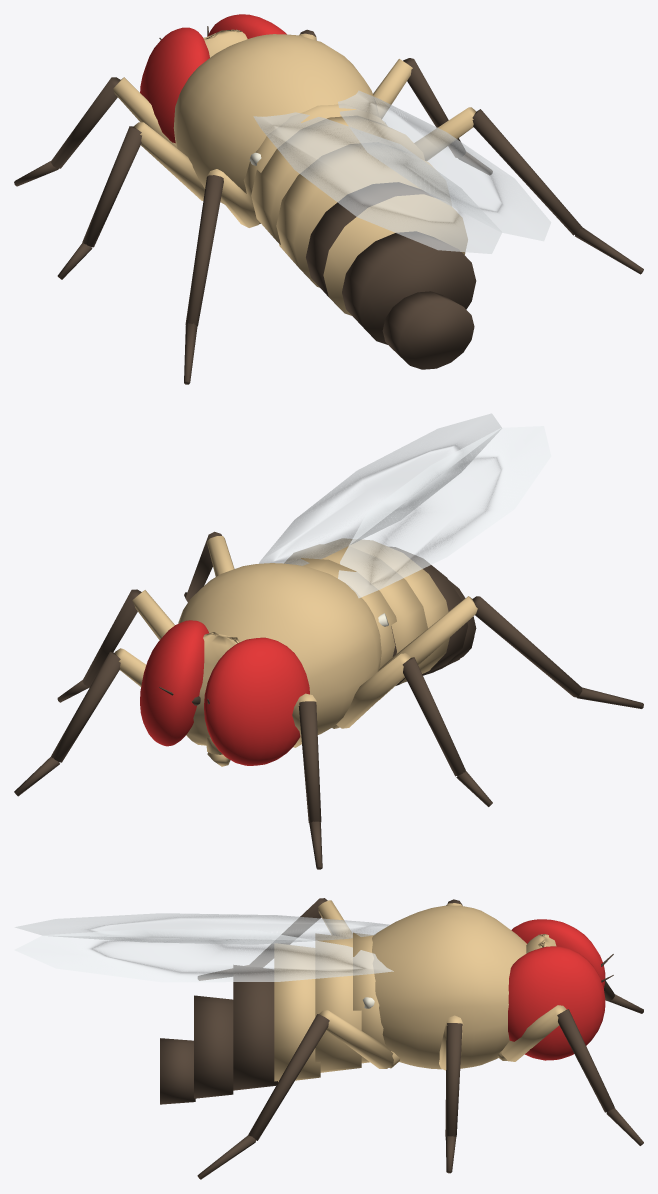
The model's file is drosophila_melanogaster.glb.
3 renders of one model, top to bottom at view 1: azimuth 30°, elevation 25°; view 2: azimuth 150°, elevation 25°; view 3: azimuth 270°, elevation 25°, orthographic. The views are drawn at different scales.
Parts seen in each view (by area): view 1: Thorax, Wing_L, Wing_R, Abdomen_T4, Abdomen_T5, Abdomen_T3, Abdomen_T2, Abdomen_T6, Eye_L, Leg_Hind_Tibia_R, Leg_Hind_Tibia_L, Abdomen_T1 (+12 smaller); view 2: Wing_L, Thorax, Wing_R, Eye_L, Eye_R, Abdomen_T2, Abdomen_T3, Abdomen_T1, Leg_Hind_Tibia_L, Leg_Front_Tibia_L, Leg_Mid_Tibia_L, Leg_Front_Tibia_R (+9 smaller); view 3: Thorax, Wing_R, Wing_L, Eye_R, Abdomen_T4, Abdomen_T3, Abdomen_T2, Abdomen_T5, Abdomen_T1, Abdomen_T6, Leg_Hind_Tibia_R, Eye_L (+7 smaller).
Boxes of the visible parts, <box> form: Thorax: <box>173,34,378,204</box>; Wing_L: <box>253,112,501,253</box>; Wing_R: <box>338,90,550,241</box>; Abdomen_T4: <box>306,182,467,315</box>; Abdomen_T5: <box>342,231,476,344</box>; Abdomen_T3: <box>276,143,434,287</box>; Abdomen_T2: <box>251,116,424,244</box>; Abdomen_T6: <box>382,291,474,369</box>; Eye_L: <box>140,27,209,143</box>; Leg_Hind_Tibia_R: <box>472,109,582,235</box>; Leg_Hind_Tibia_L: <box>185,175,223,325</box>; Abdomen_T1: <box>243,104,386,198</box>; Wing_L: <box>338,426,550,597</box>; Thorax: <box>178,563,381,734</box>; Wing_R: <box>259,413,501,565</box>; Eye_L: <box>204,637,309,765</box>; Eye_R: <box>140,620,208,746</box>; Abdomen_T2: <box>284,544,427,656</box>; Abdomen_T3: <box>325,538,449,685</box>; Abdomen_T1: <box>286,558,396,668</box>; Leg_Hind_Tibia_L: <box>472,596,582,697</box>; Leg_Front_Tibia_L: <box>298,701,321,822</box>; Leg_Mid_Tibia_L: <box>402,657,465,776</box>; Leg_Front_Tibia_R: <box>51,651,120,762</box>; Thorax: <box>372,905,526,1069</box>; Wing_R: <box>15,929,393,982</box>; Wing_L: <box>15,913,389,944</box>; Eye_R: <box>508,946,605,1060</box>; Abdomen_T4: <box>233,965,277,1090</box>; Abdomen_T3: <box>274,943,320,1081</box>; Abdomen_T2: <box>315,933,361,1072</box>; Abdomen_T5: <box>194,995,233,1098</box>; Abdomen_T1: <box>353,932,386,1063</box>; Abdomen_T6: <box>160,1038,195,1104</box>; Leg_Hind_Tibia_R: <box>248,1014,329,1140</box>; Eye_L: <box>511,919,605,988</box>.
Size of the model in its own units: 2.67 by 1.14 by 3.53.
